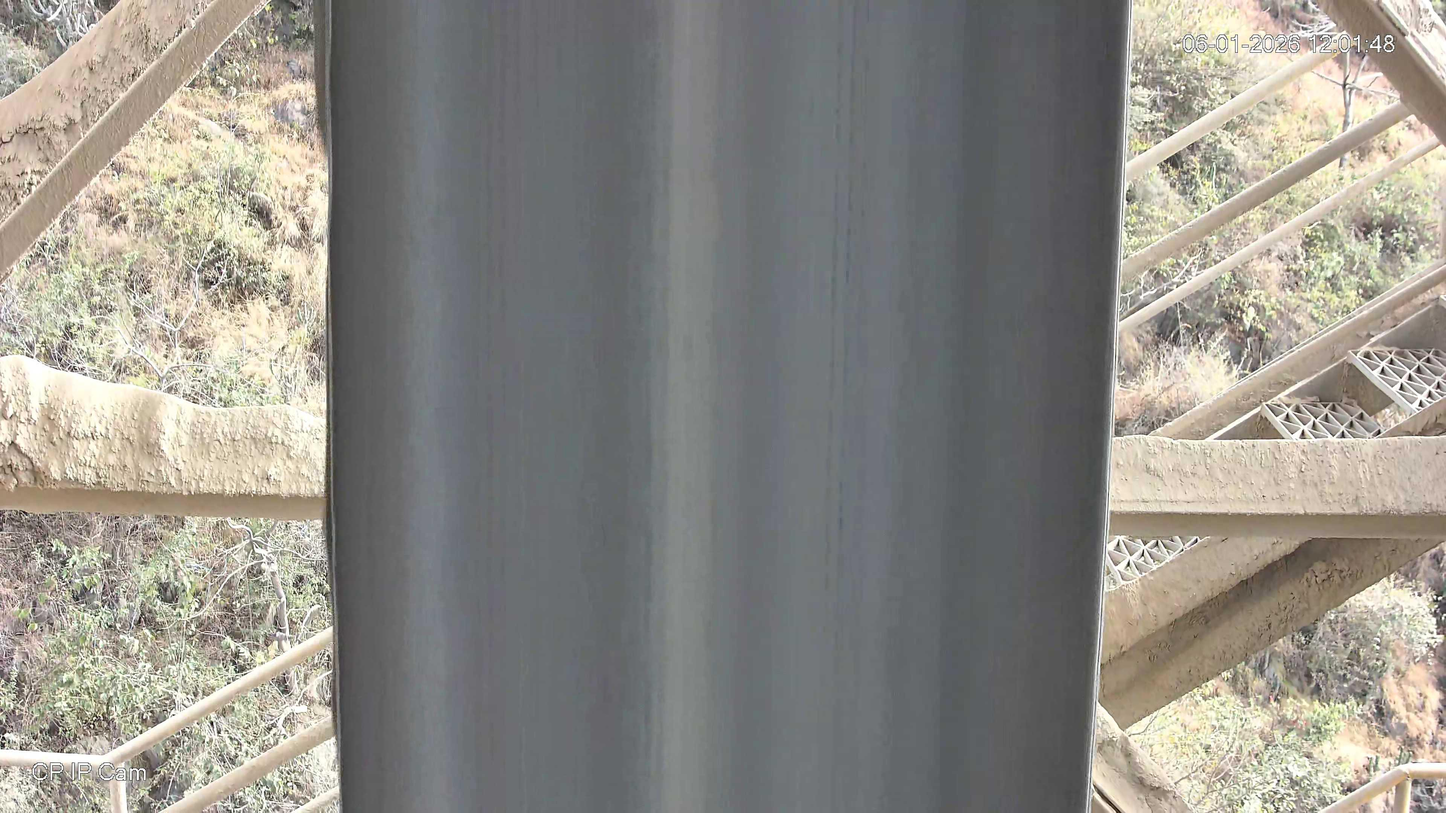belt_roi: (311, 0, 1134, 813)
